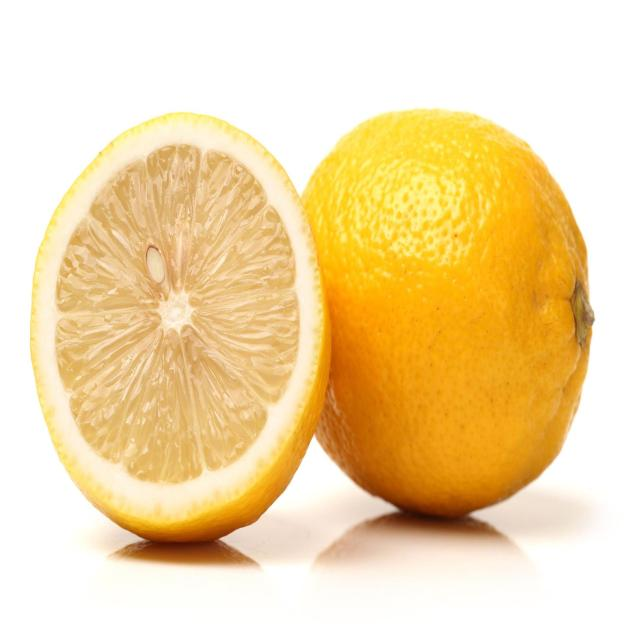lemon: (23, 103, 335, 550), (293, 102, 599, 526)
